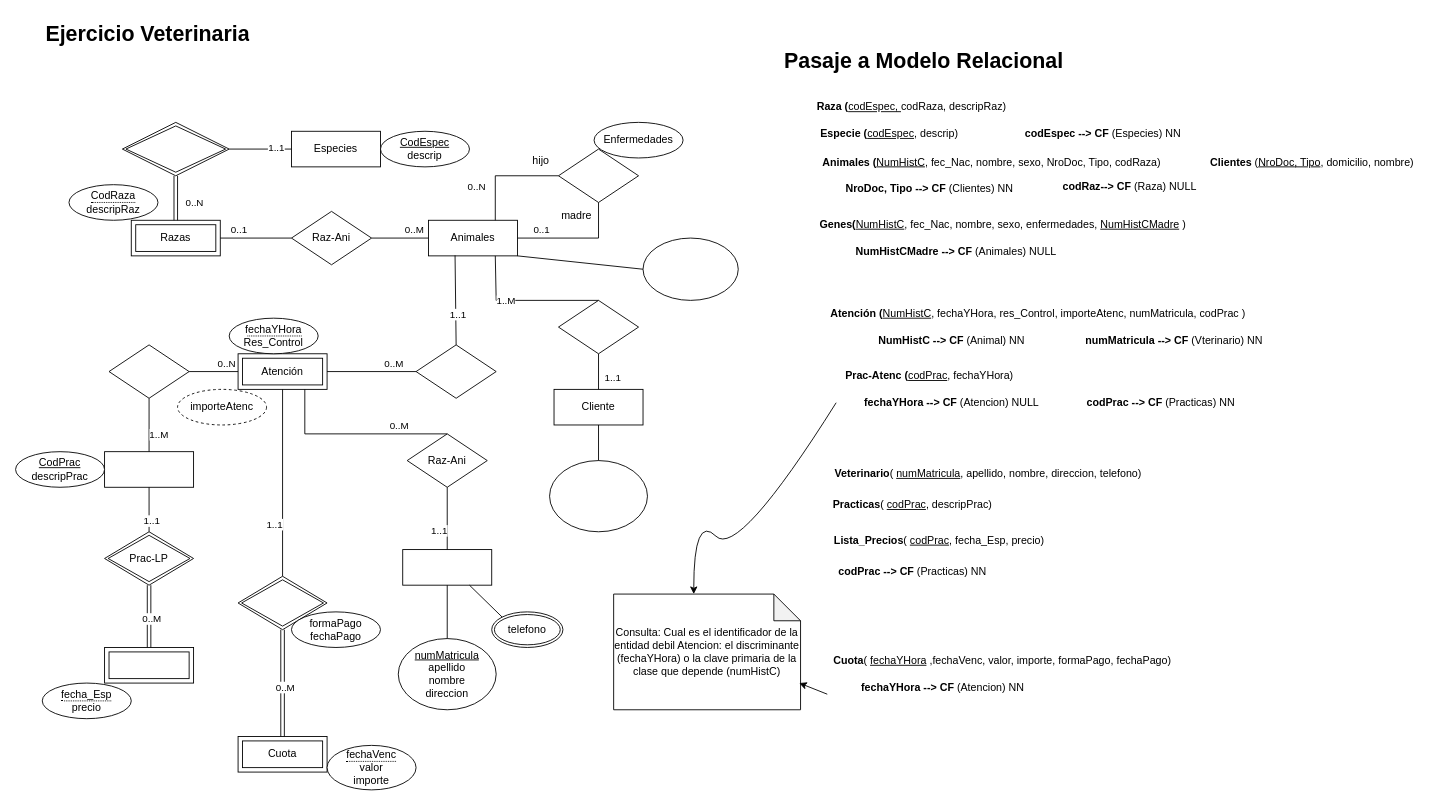
Some shapes in this 1439 by 805 pixel diagram are drawn without their labels. Here are the shapes that lost their labels. From the top down, the box of each, then its label:
(121, 121, 229, 176): Raza-Esp
(558, 148, 639, 202): Genes
(642, 237, 738, 300): NumHistC fec_Nac nombre sexo
(558, 299, 639, 354): Ani-Cli
(108, 344, 189, 398): Prac-Atenc
(415, 344, 496, 398): Ani-Atenc
(104, 451, 194, 487): Practicas
(549, 460, 647, 532): NroDoc Tipo domicilio nombre
(402, 549, 492, 585): Veterinario
(237, 575, 327, 630): Pago
(104, 647, 194, 683): Lista_Precios
